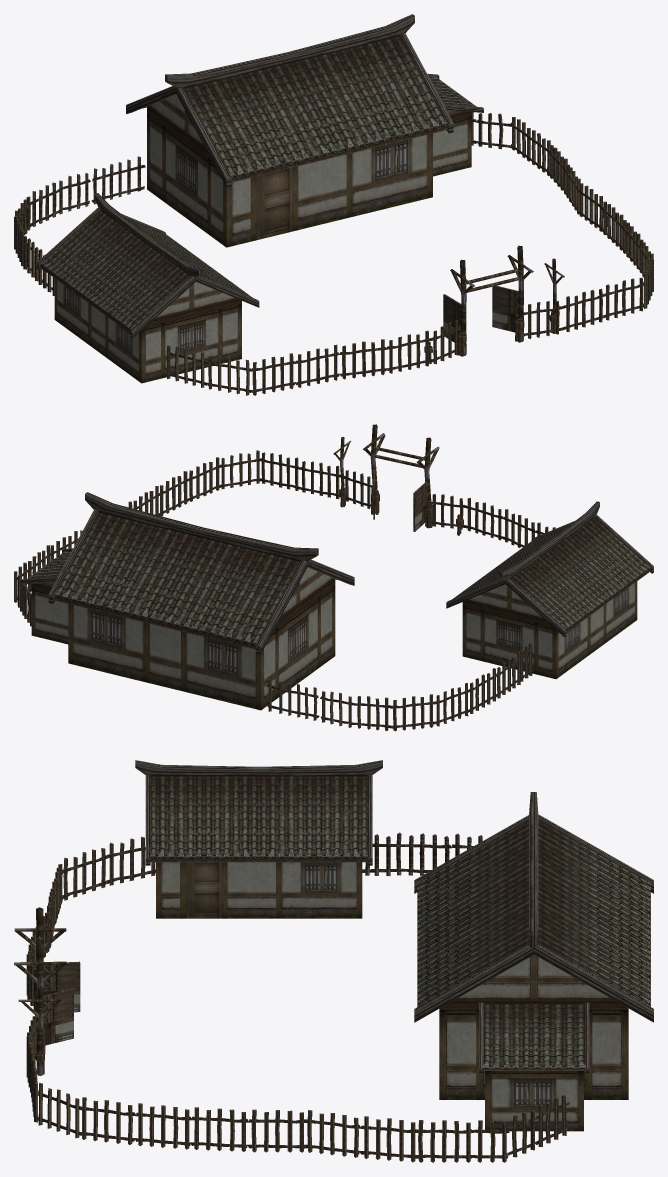
Rendered from bigmap_minju01.FBX.
3 renders of one model, top to bottom at view 1: azimuth 30°, elevation 25°; view 2: azimuth 150°, elevation 25°; view 3: azimuth 270°, elevation 25°, orthographic. The views are drawn at different scales.
Parts seen in each view (by area): view 1: WDminju01; view 2: WDminju01; view 3: WDminju01.
Part boxes in pixels (x1,y1,x2,y2): WDminju01: (14,14,653,395); WDminju01: (14,424,653,731); WDminju01: (14,760,653,1162).
Size of the model in its own units: 7.95 by 6.93 by 2.13.
